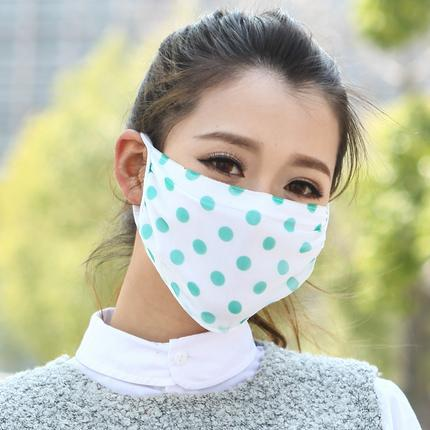OK: (138, 120, 341, 323)
